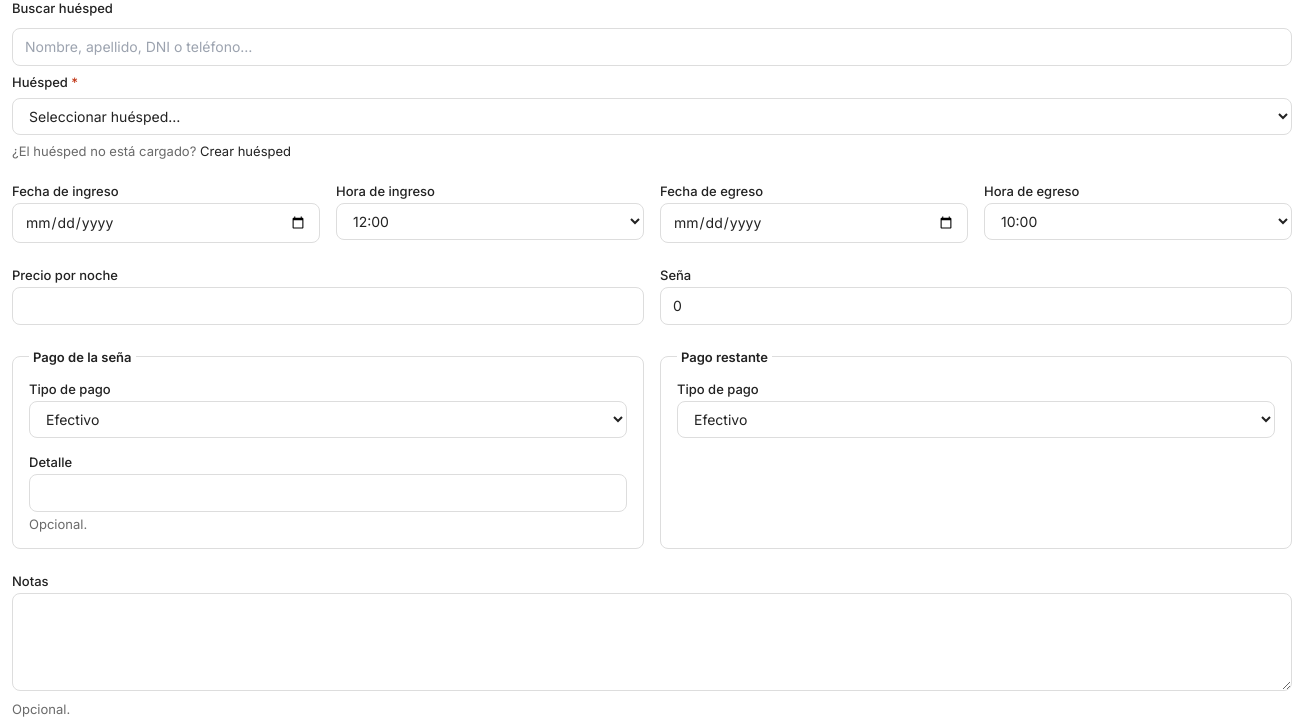
Test: BookingForm payment split › updates the monto a pagar when the seña changes
In the date field labelled "Fecha de ingreso": (166, 223) [12,203,320,243], type "2026-10-10"
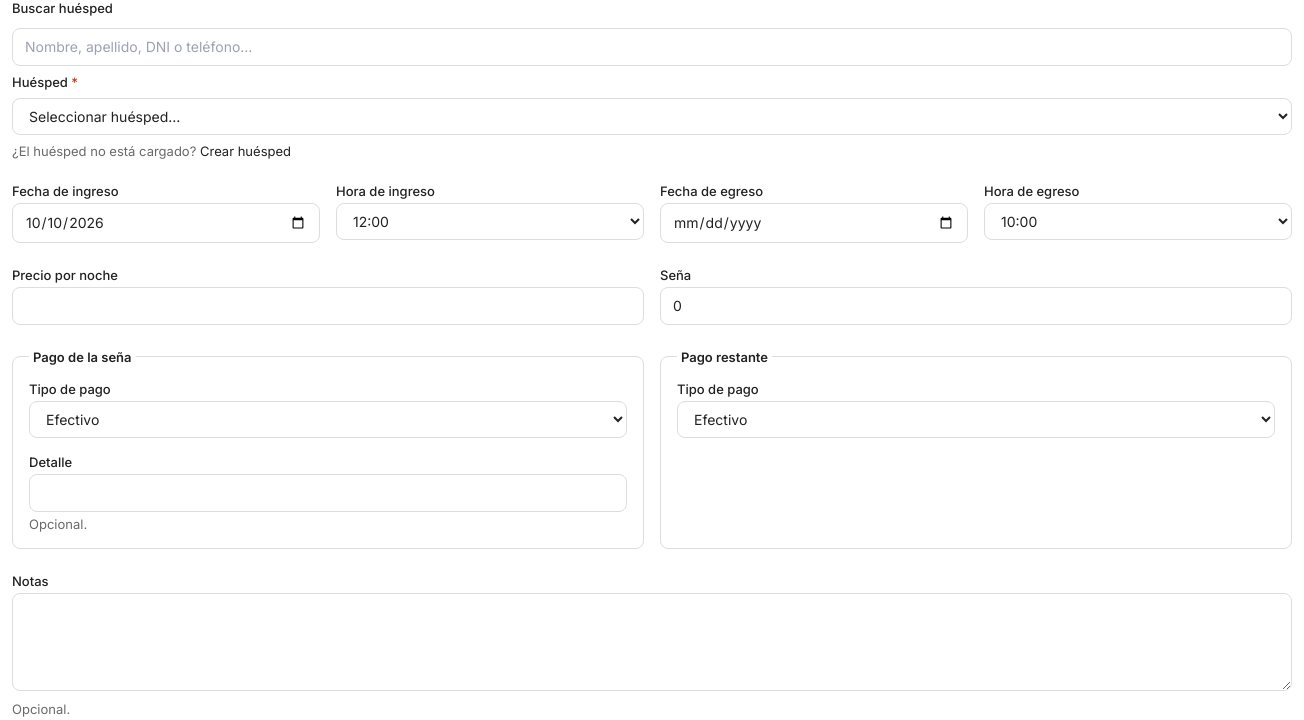
In the date field labelled "Fecha de egreso": (814, 223) [660,203,968,243], type "2026-10-13"
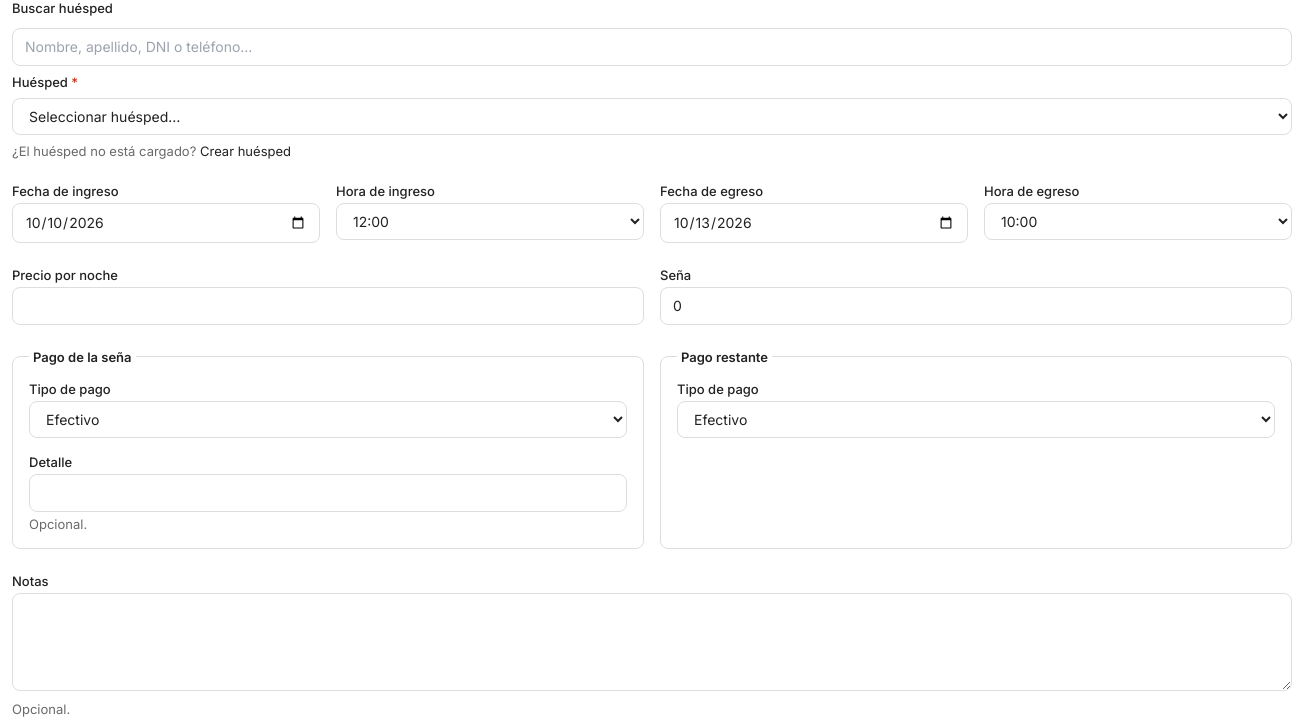
In the number field labelled "Precio por noche": (328, 306) [12,287,644,325], type "150"
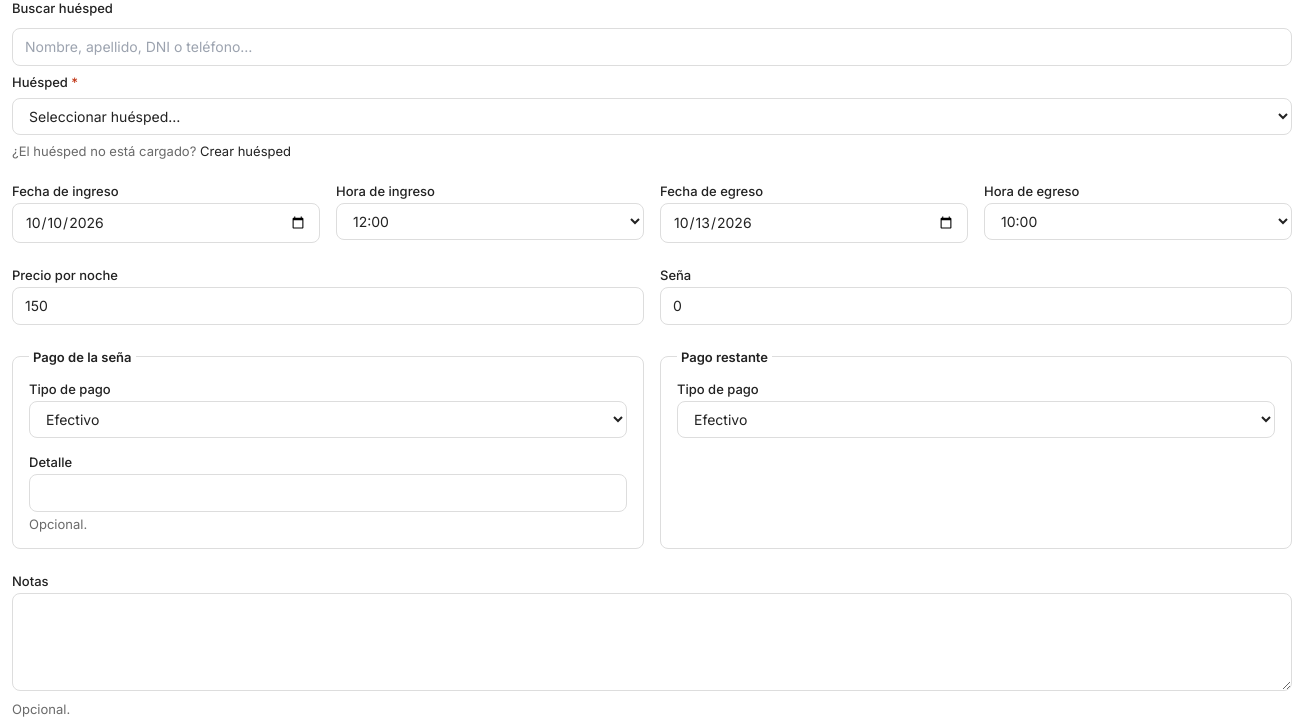
Replace the text in the number field labelled "Seña" with "100": (976, 306) [660,287,1292,325]
(page scrolled)
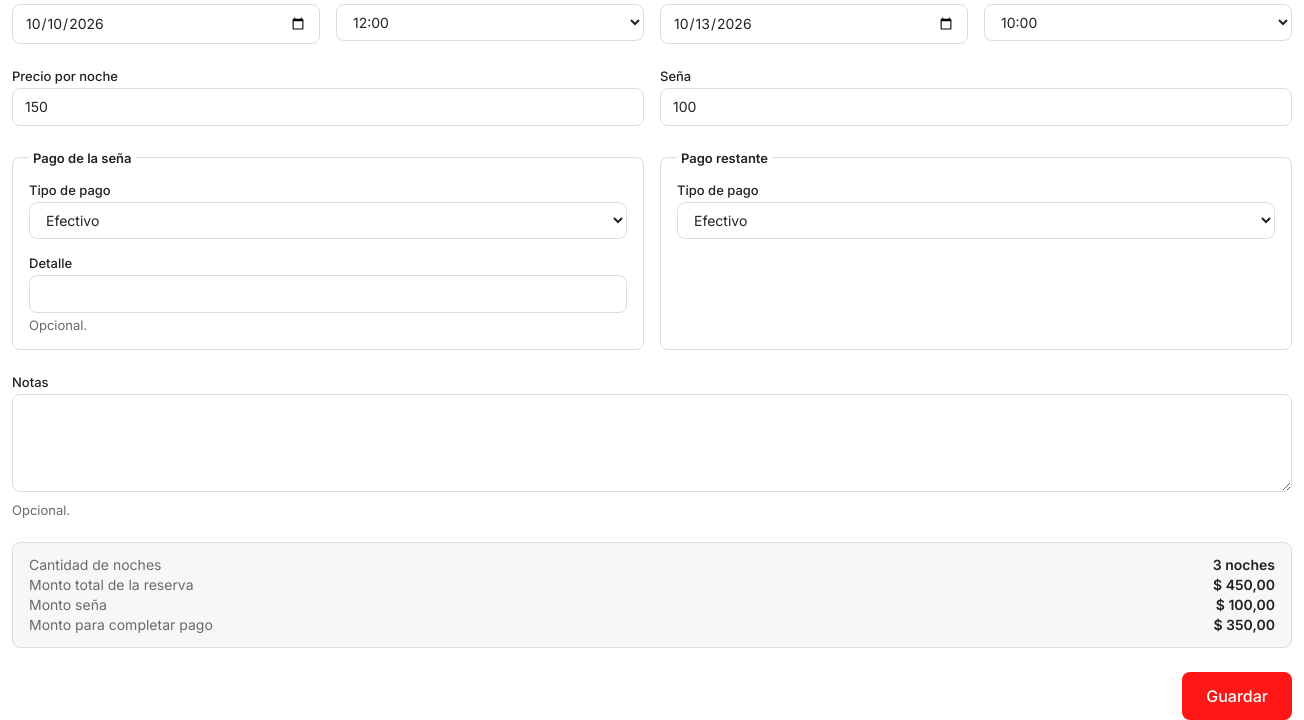
Now the text "$ 350,00" is shown, box [1214,615,1275,635]
